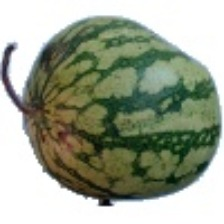watermelon: (32, 20, 224, 215)
